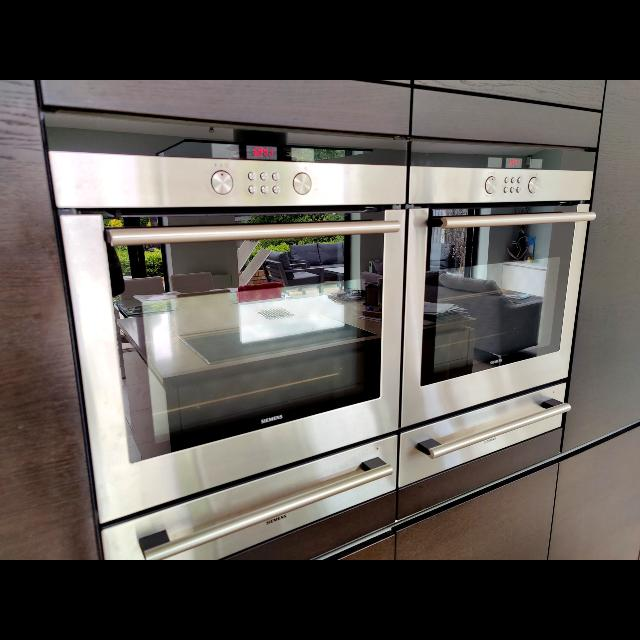Oven: (50, 125, 398, 442), (408, 141, 578, 399)
